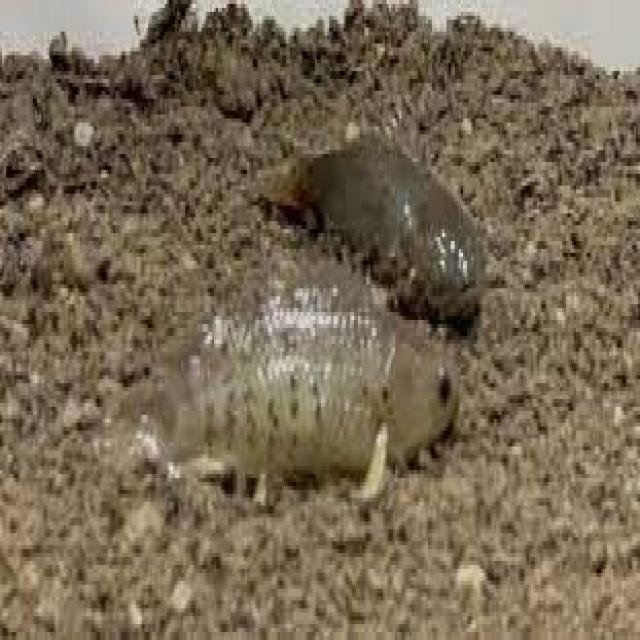Climbing-Perch: (129, 227, 485, 540)
